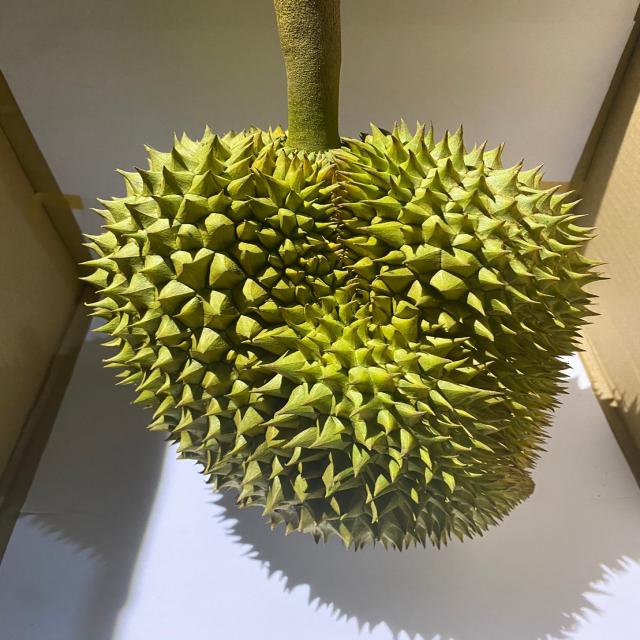immature: (75, 120, 605, 550)
